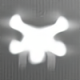plane: (6, 12, 77, 70)
